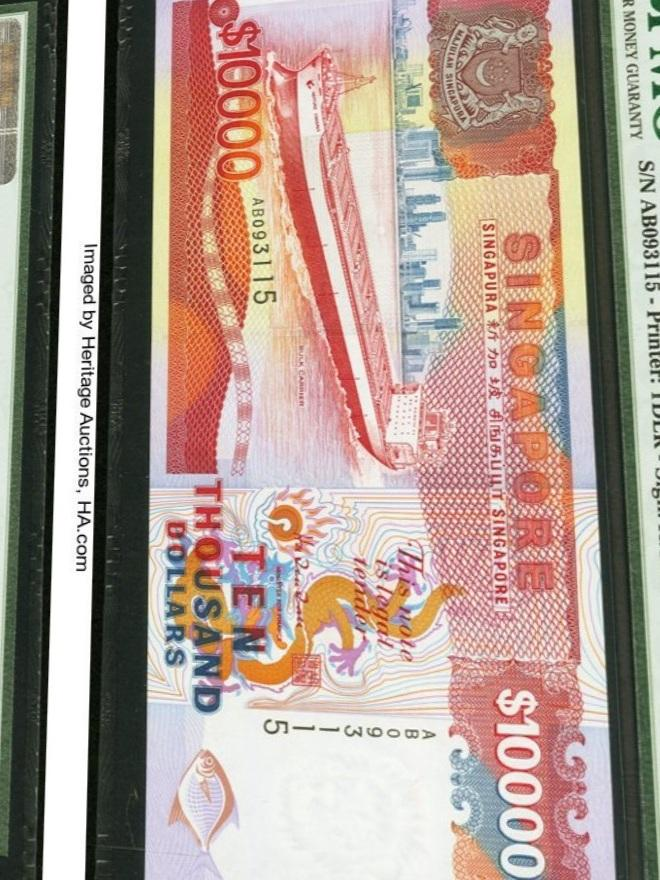10000SingaporeDollar: (149, 0, 592, 880)
